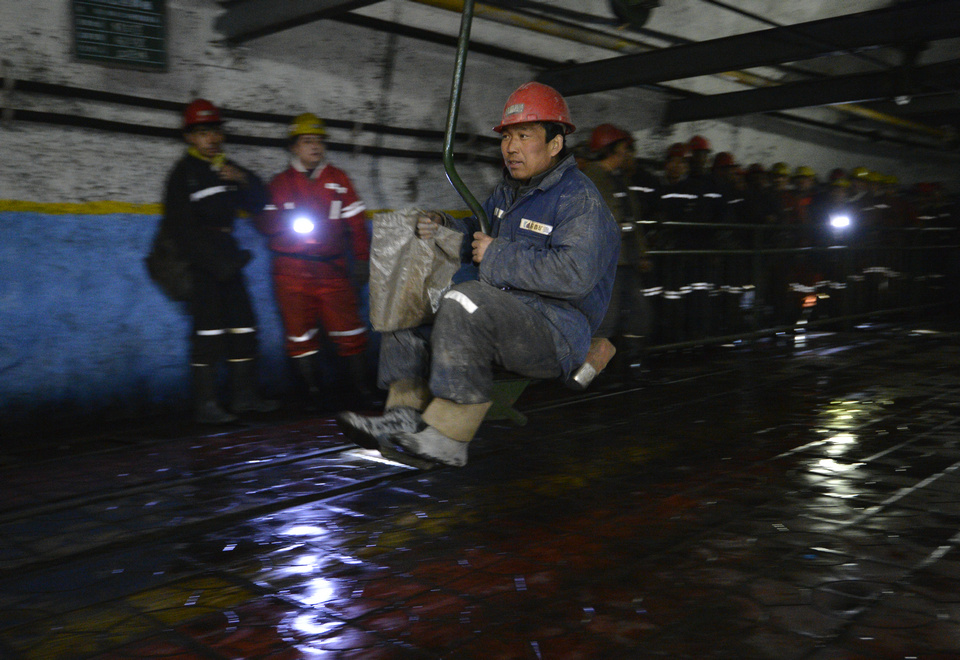helmet: (481, 72, 597, 175)
